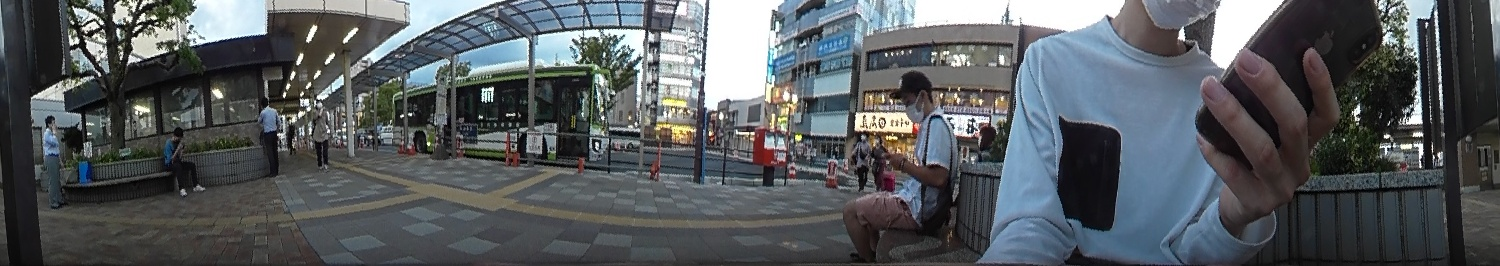difficult_person: (854, 130, 871, 188), (870, 135, 888, 181), (286, 120, 298, 154)
person: (842, 64, 958, 254), (37, 114, 72, 211), (163, 124, 204, 197), (257, 97, 284, 179), (309, 98, 332, 174)
